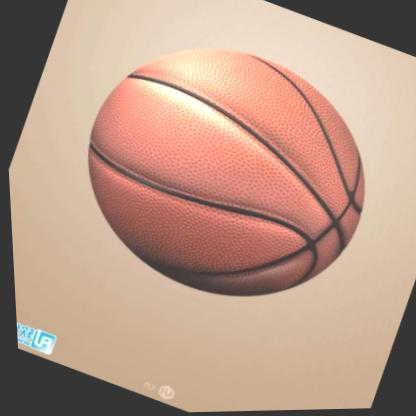basketball: (42, 5, 406, 342)
